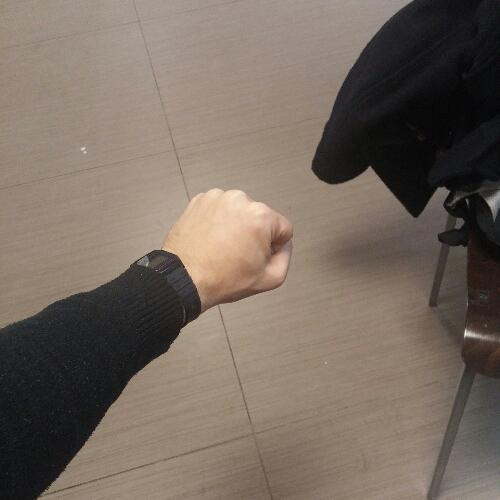rock: (160, 183, 300, 306)
